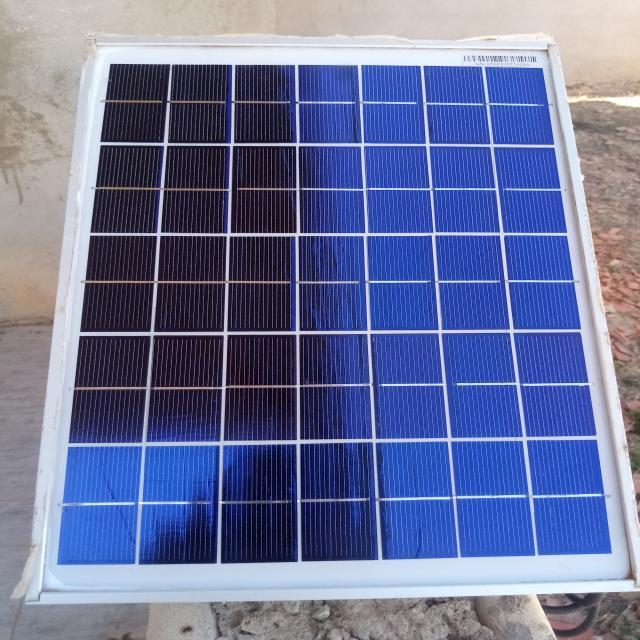no faulty: (32, 40, 640, 600)
